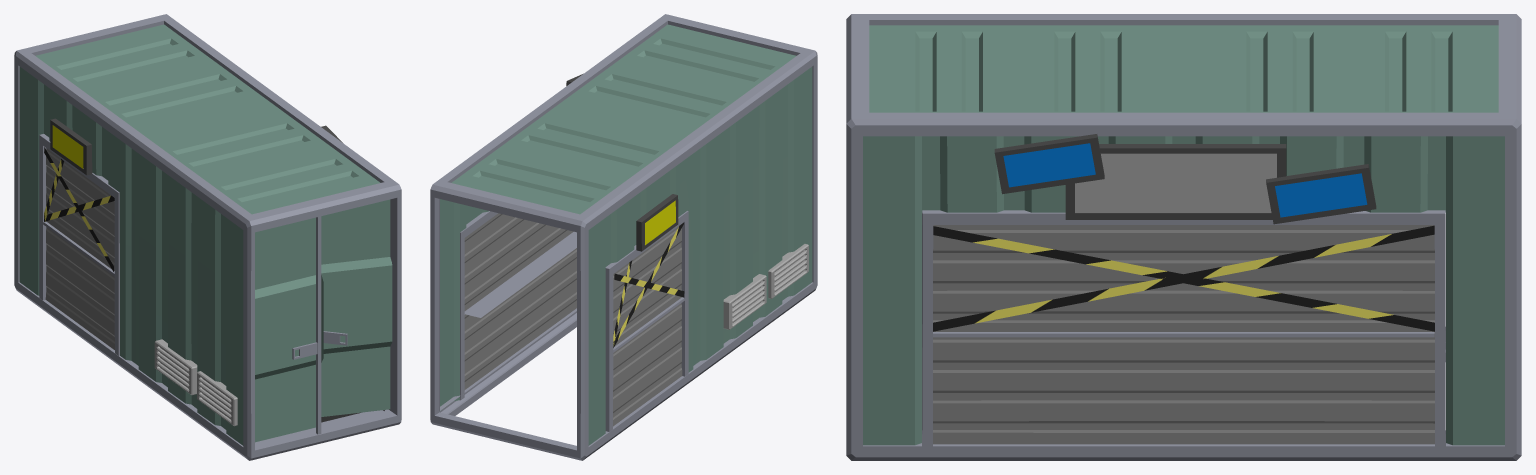
Rendered from long03.fbx.
3 views of the same model, side by side, from view 1: azimuth 30°, elevation 25°; view 2: azimuth 150°, elevation 25°; view 3: azimuth 270°, elevation 25° (orthographic). The views are drawn at different scales.
Parts seen in each view (by area): view 1: polySurface319, polySurface31, polySurface30, polySurface33, polySurface315, puerta05, puerta07, polySurface321, pasted__pPlane46, pasted__pPlane47, pCube2, polySurface320 (+4 smaller); view 2: polySurface319, polySurface31, polySurface30, puerta03, puerta04, puerta05, polySurface32, puerta07, polySurface321, puerta02, pasted__pPlane46, pasted__pPlane47 (+6 smaller); view 3: polySurface31, polySurface32, puerta03, polySurface30, puerta04, polySurface112, polySurface38, pPlane64, pPlane65, polySurface111, puerta02, polySurface318 (+3 smaller).
Boxes of the visible parts, x1,y1,x2,y2 form: polySurface319: (19,67,243,445); polySurface31: (35,24,380,214); polySurface30: (14,14,401,460); polySurface33: (321,199,392,416); polySurface315: (255,217,323,442); puerta05: (45,227,114,349); puerta07: (46,148,114,270); polySurface321: (39,134,119,355); pasted__pPlane46: (154,339,197,395); pasted__pPlane47: (197,371,237,426); pCube2: (316,216,321,434); polySurface320: (50,118,92,175); polySurface319: (588,67,812,445); polySurface31: (451,24,796,214); polySurface30: (430,14,817,460); puerta03: (464,248,576,389); puerta04: (464,213,573,310); puerta05: (613,303,682,426); polySurface32: (439,199,488,411); puerta07: (613,226,681,346); polySurface321: (605,211,688,431); puerta02: (464,231,576,317); pasted__pPlane46: (723,274,766,329); pasted__pPlane47: (768,244,808,298); polySurface31: (869,25,1498,112); polySurface32: (863,136,1504,445); puerta03: (933,335,1434,444); polySurface30: (846,14,1521,460); puerta04: (933,225,1434,334); polySurface112: (1075,153,1276,212); polySurface38: (922,210,1445,446); pPlane64: (933,225,1434,331); pPlane65: (933,226,1434,331); polySurface111: (1065,144,1286,219); puerta02: (933,332,1434,337); polySurface318: (1003,143,1095,187).
Bounding box in the file's own units: 3.43 × 4.45 × 7.96.
